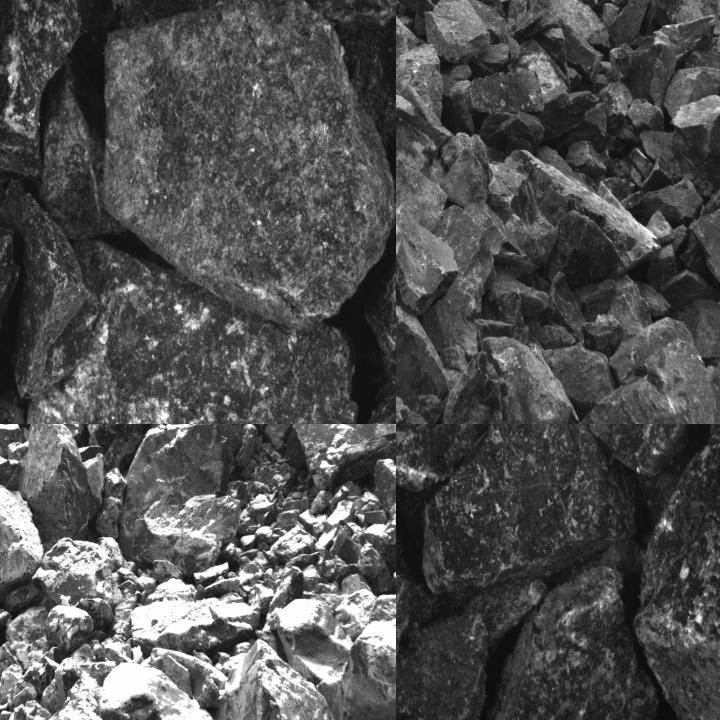stone: (101, 0, 395, 326), (20, 239, 359, 423), (423, 424, 641, 616), (477, 565, 675, 719), (632, 424, 719, 719), (396, 577, 552, 719), (0, 177, 93, 400), (511, 148, 660, 287), (39, 47, 127, 241), (119, 424, 242, 545), (0, 0, 81, 179), (477, 424, 718, 479), (560, 340, 719, 423), (219, 639, 376, 719), (16, 424, 100, 545), (430, 206, 490, 366), (641, 96, 719, 208), (483, 336, 582, 423), (130, 493, 236, 572), (276, 424, 395, 492), (331, 593, 395, 719), (95, 660, 230, 719), (396, 493, 439, 676), (129, 594, 260, 654), (487, 161, 560, 268), (276, 598, 354, 698), (396, 205, 462, 316), (463, 201, 544, 282), (396, 43, 452, 146), (36, 540, 119, 606), (438, 349, 511, 423), (396, 308, 454, 400), (0, 485, 42, 605), (542, 340, 619, 405), (611, 320, 691, 381), (87, 424, 189, 469), (424, 0, 492, 65), (396, 148, 448, 231), (396, 94, 442, 185), (442, 131, 490, 204), (483, 268, 547, 322), (472, 68, 545, 115), (662, 63, 719, 121), (608, 276, 652, 348), (278, 0, 395, 27), (689, 188, 719, 293), (548, 0, 612, 48), (628, 43, 675, 105), (545, 272, 586, 341), (44, 604, 94, 660), (642, 182, 705, 225), (653, 15, 714, 58), (677, 299, 719, 361), (7, 608, 49, 668), (149, 0, 280, 18), (49, 680, 107, 719), (612, 0, 662, 45), (562, 30, 602, 82), (493, 112, 545, 149), (539, 25, 570, 80), (513, 0, 559, 37), (566, 139, 610, 176), (584, 313, 625, 351), (657, 0, 711, 25), (626, 98, 668, 130), (604, 83, 631, 129), (604, 42, 633, 82), (684, 50, 719, 79), (0, 440, 21, 487), (0, 605, 11, 653), (600, 3, 620, 26)
